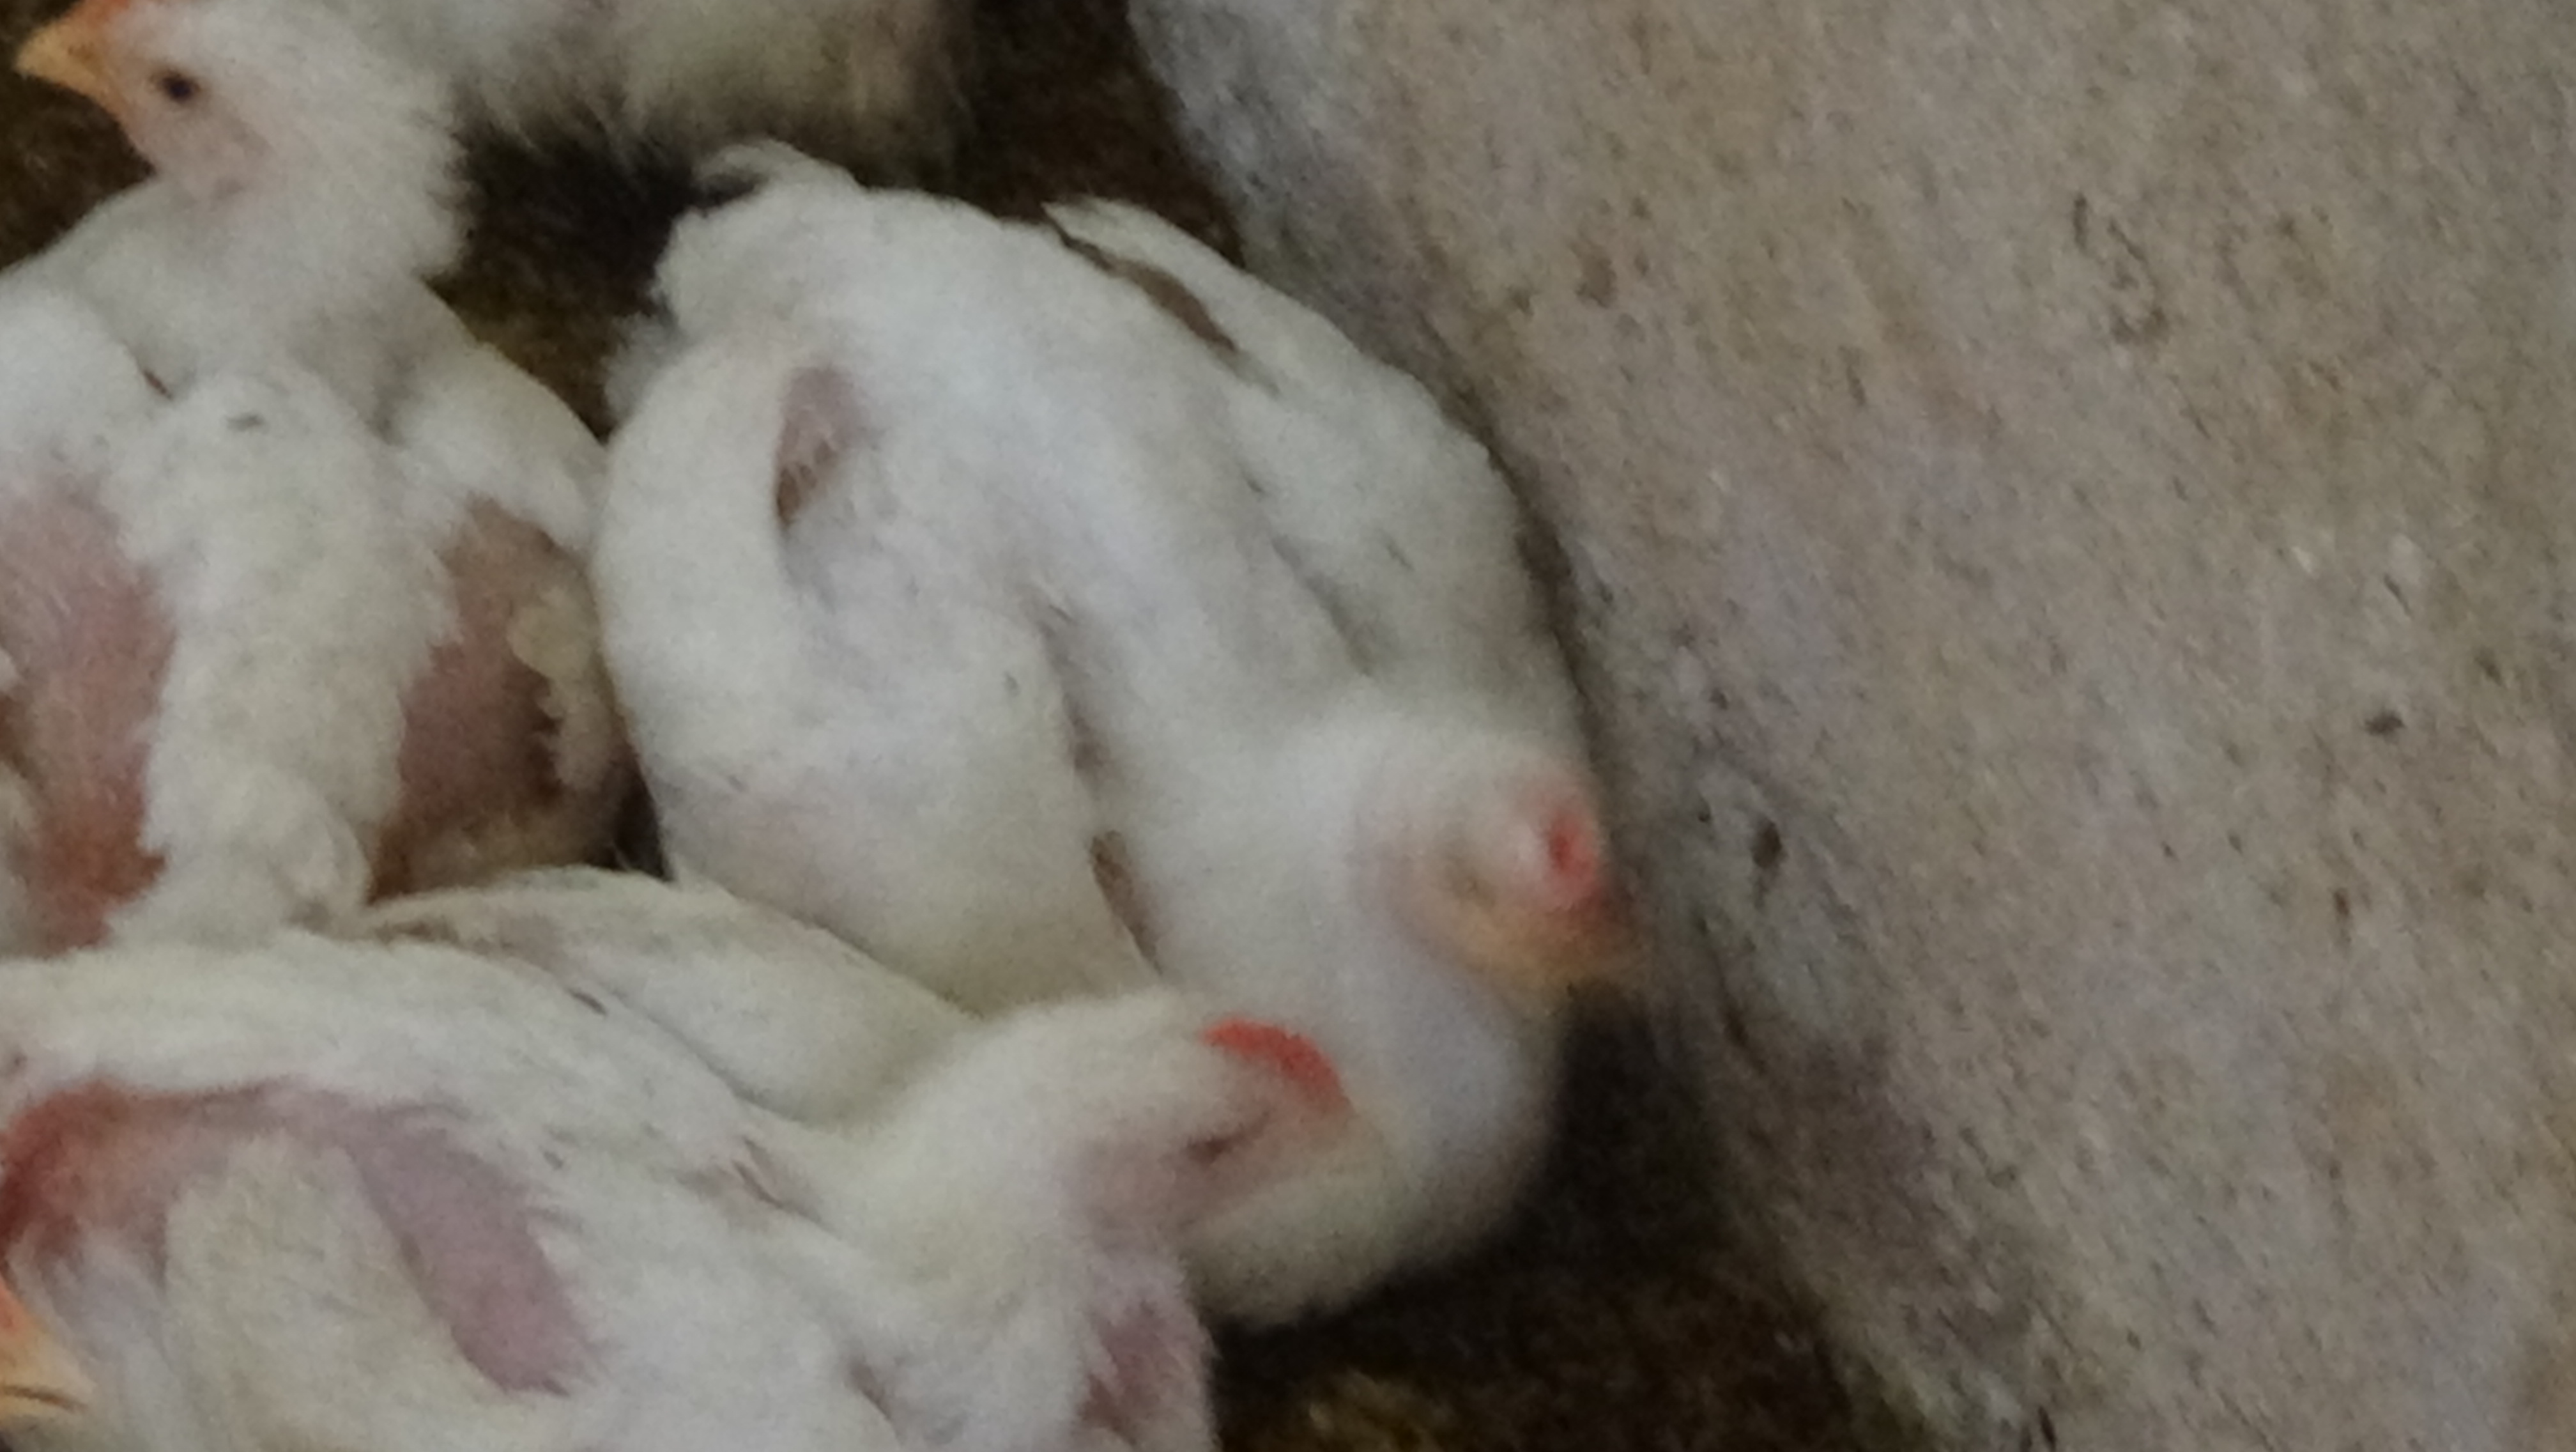Pollos: (602, 67, 1677, 1358), (0, 836, 1382, 1452), (0, 0, 669, 903)
